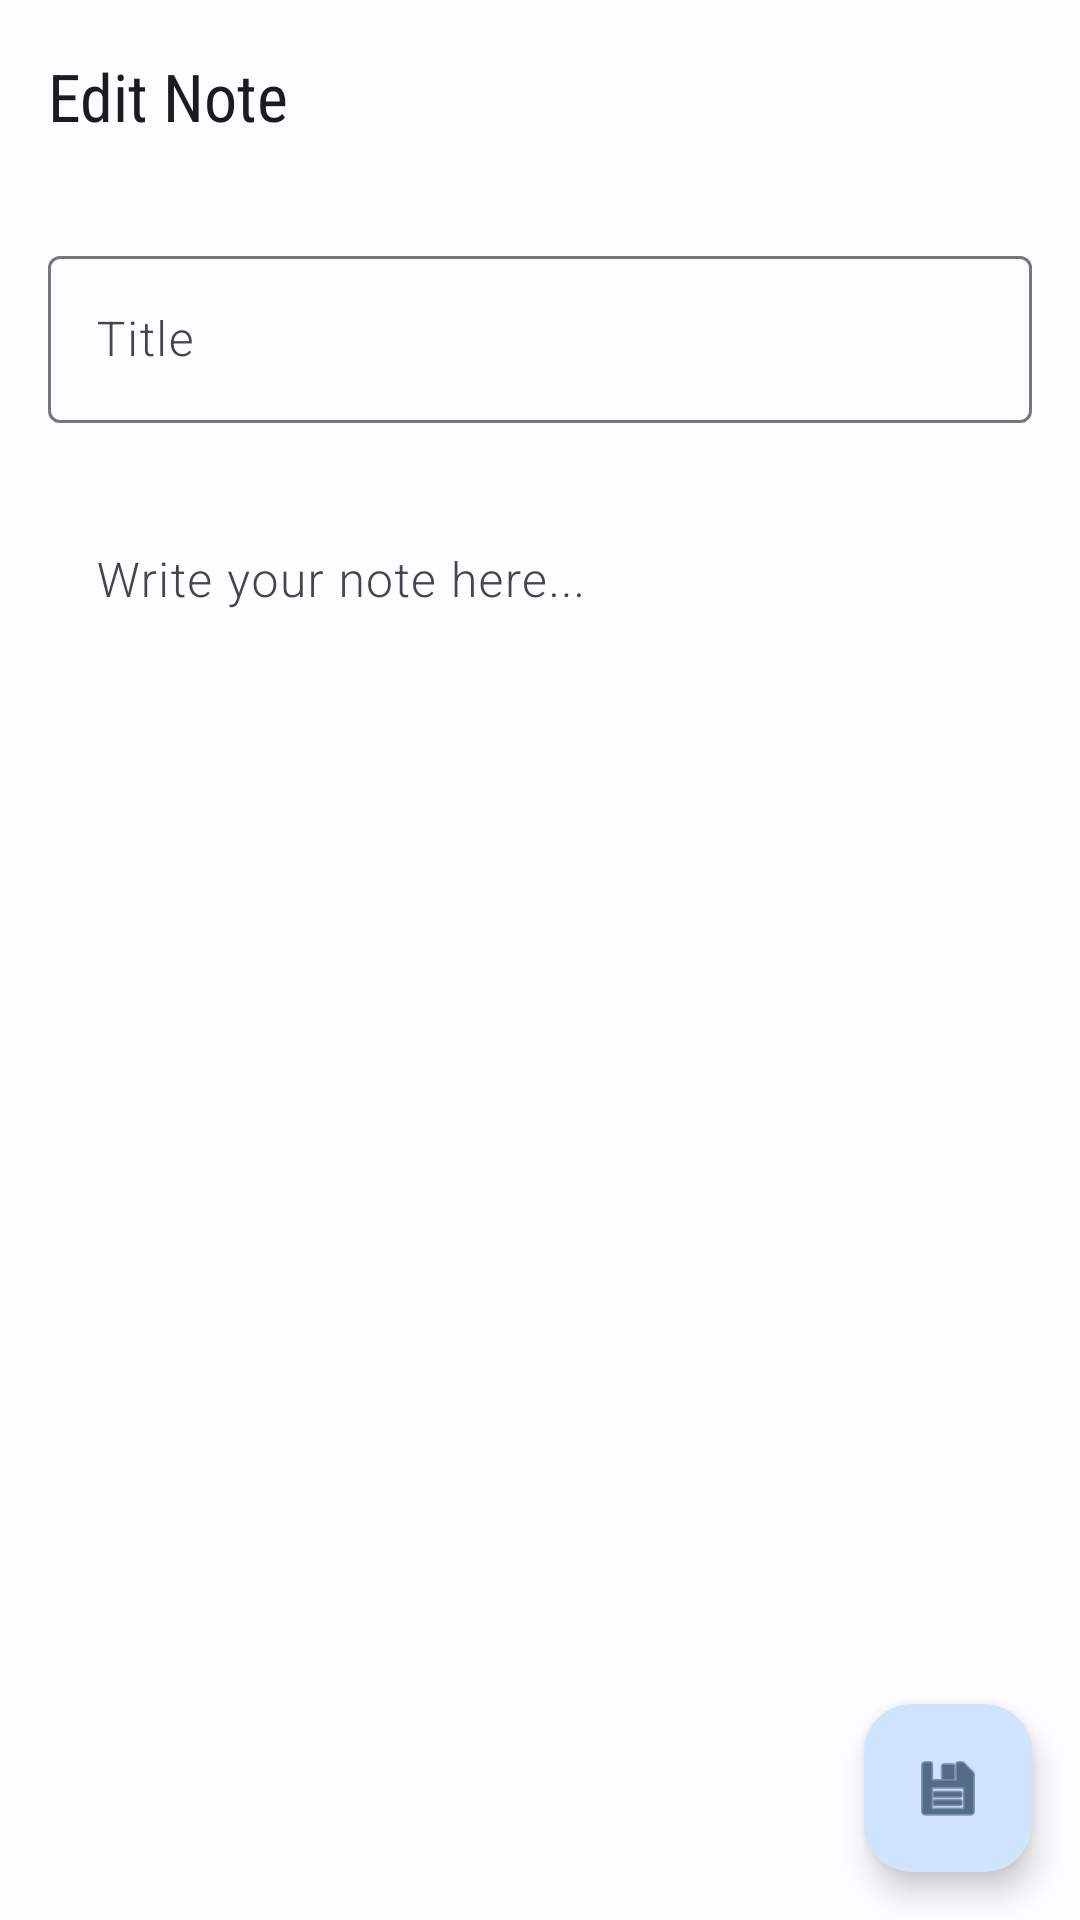

Icon bounding boxes for this 1080×1920 phone screenshot, format bbox(x1, y1, x2, y2):
Save Note: bbox(864, 1704, 1032, 1872)
